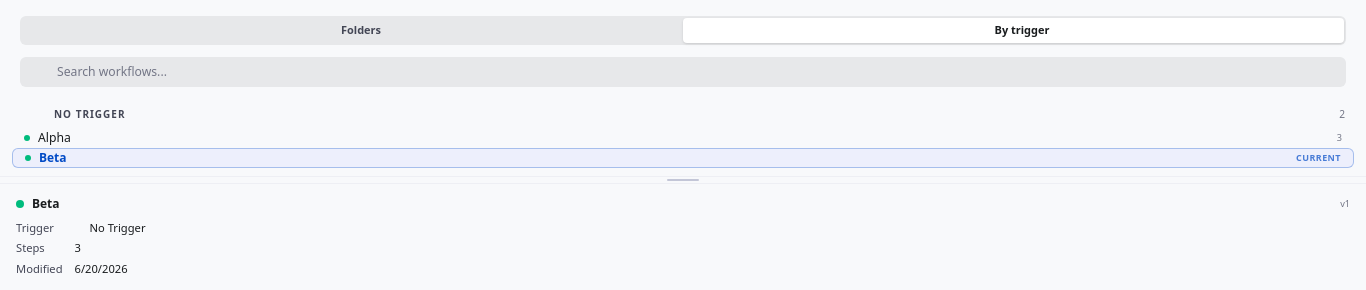
Test: WorkflowBrowser info card › hoverCurrentItem_updatesCard_viaIsCurrentBranch
The width and height of the screenshot is (1366, 290).
# Move the card off the fallback first.
Hover over the button "Alpha 3" at (54, 137), box left=12, top=128, right=1354, bottom=148
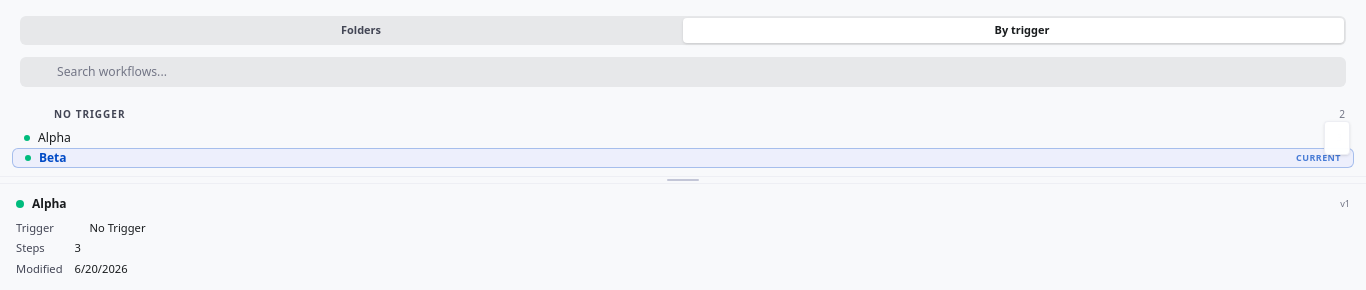
Check: the text "Alpha" next to "v1" is shown, box left=32, top=194, right=67, bottom=212
Hover over the element titled "Currently open workflow" at (683, 158), box left=12, top=148, right=1354, bottom=168
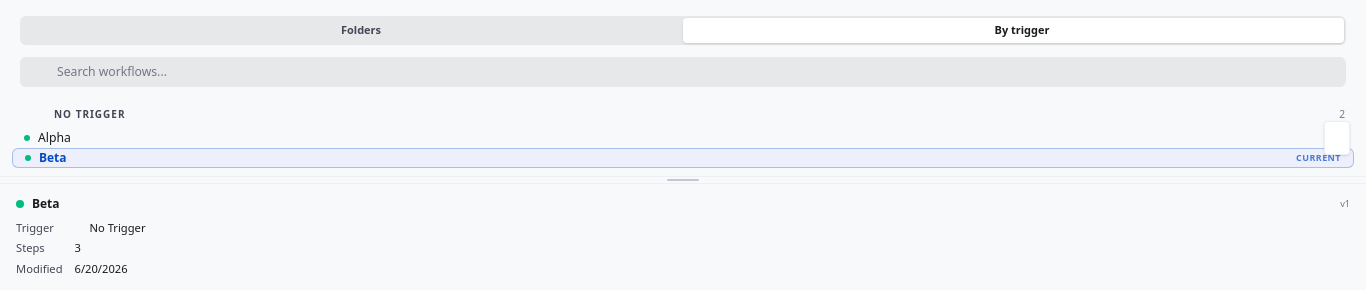
Check: the text "Beta" next to "v1" is shown, box left=32, top=194, right=60, bottom=212
